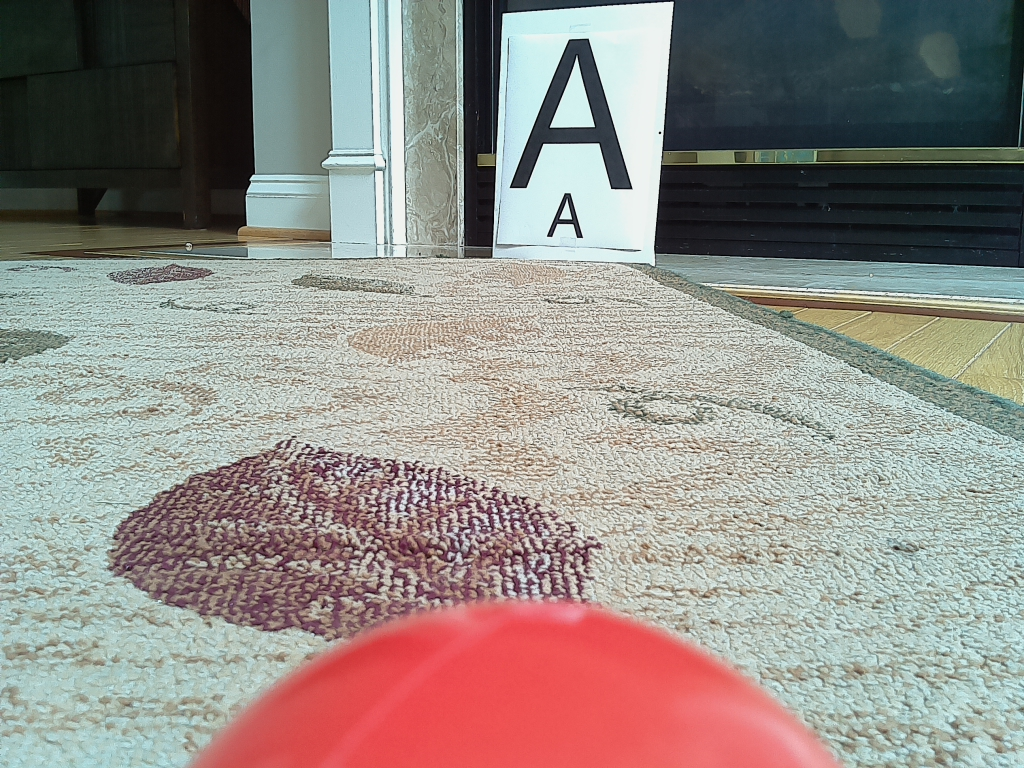letter: (508, 38, 636, 191)
